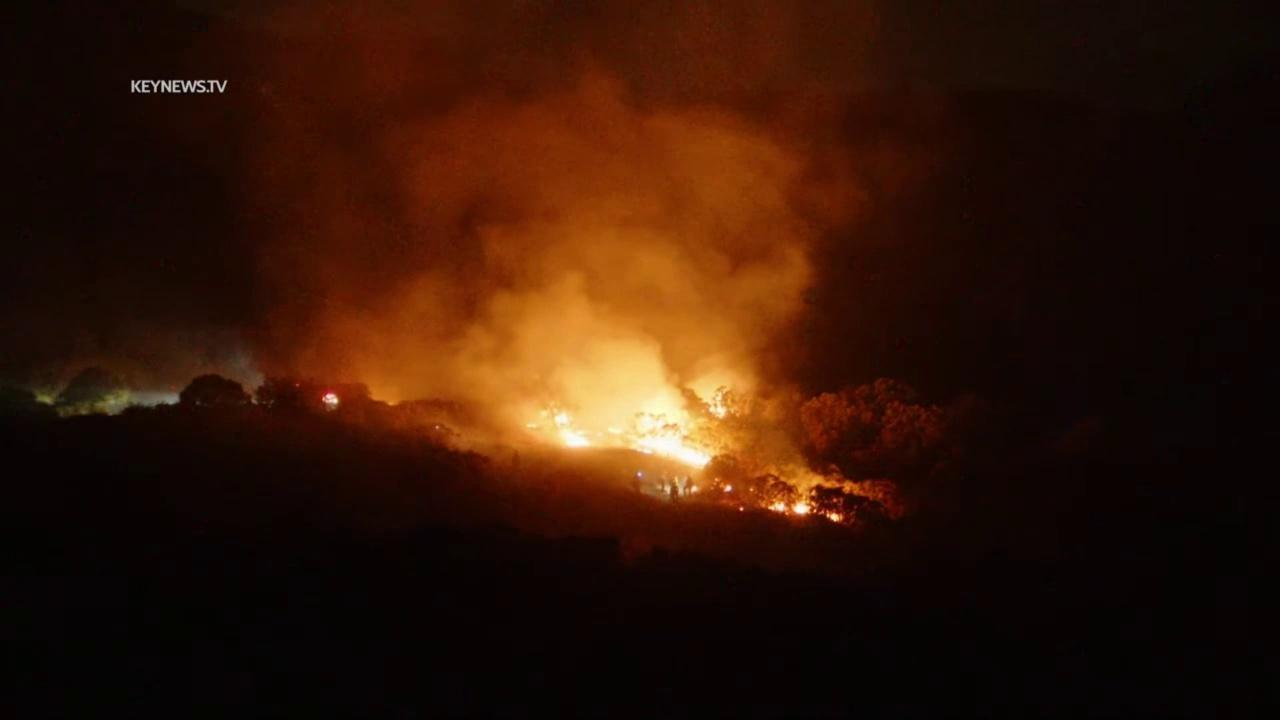fire: (627, 412, 715, 471), (540, 406, 594, 450), (764, 499, 843, 524), (710, 390, 728, 419), (722, 481, 733, 491), (738, 506, 746, 514)
smoke: (186, 0, 975, 478)
